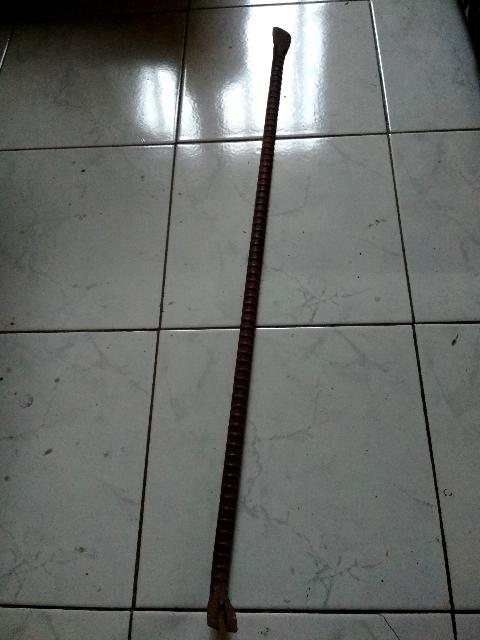crow bar: (202, 25, 297, 638)
